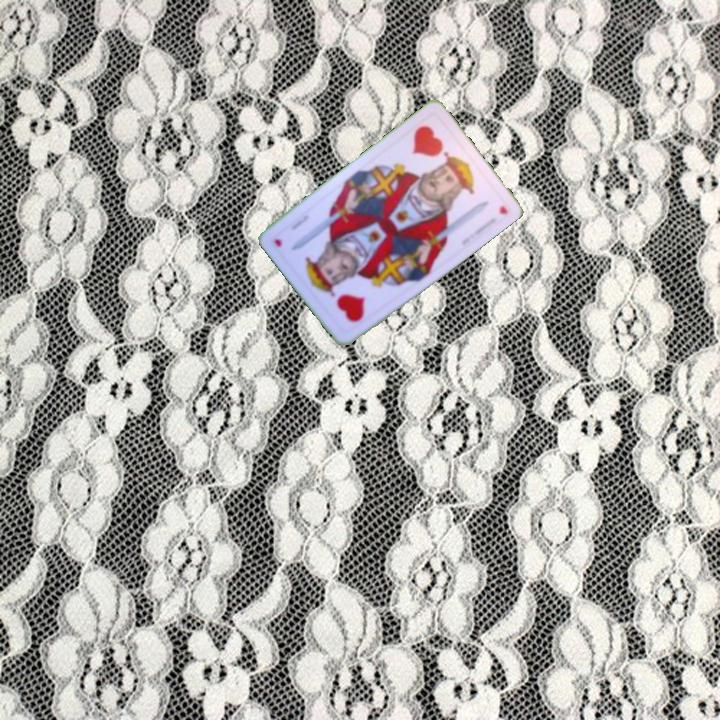h_k.png: (306, 252, 390, 338), (390, 110, 474, 196)
